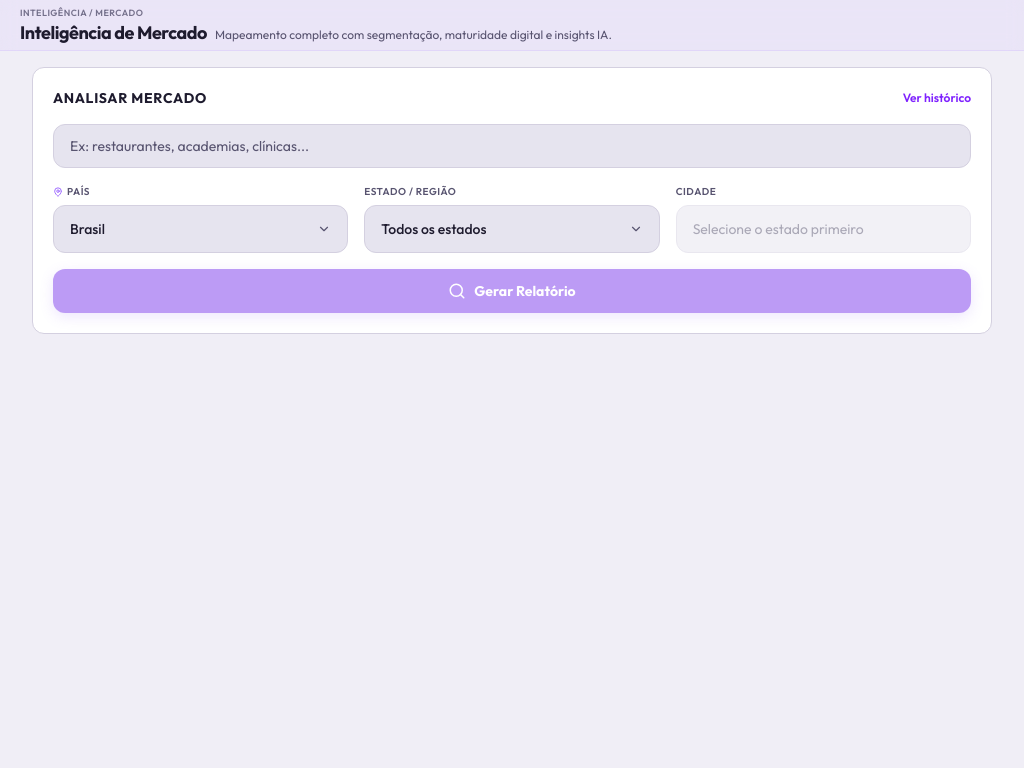
Test: Intelligence modules › MercadoPage › shows error banner when market report fails
The width and height of the screenshot is (1024, 768).
Type "restaurants" into the field with placeholder "Ex: restaurantes, academias, clínicas..." at (512, 146), box [53,124,971,168]
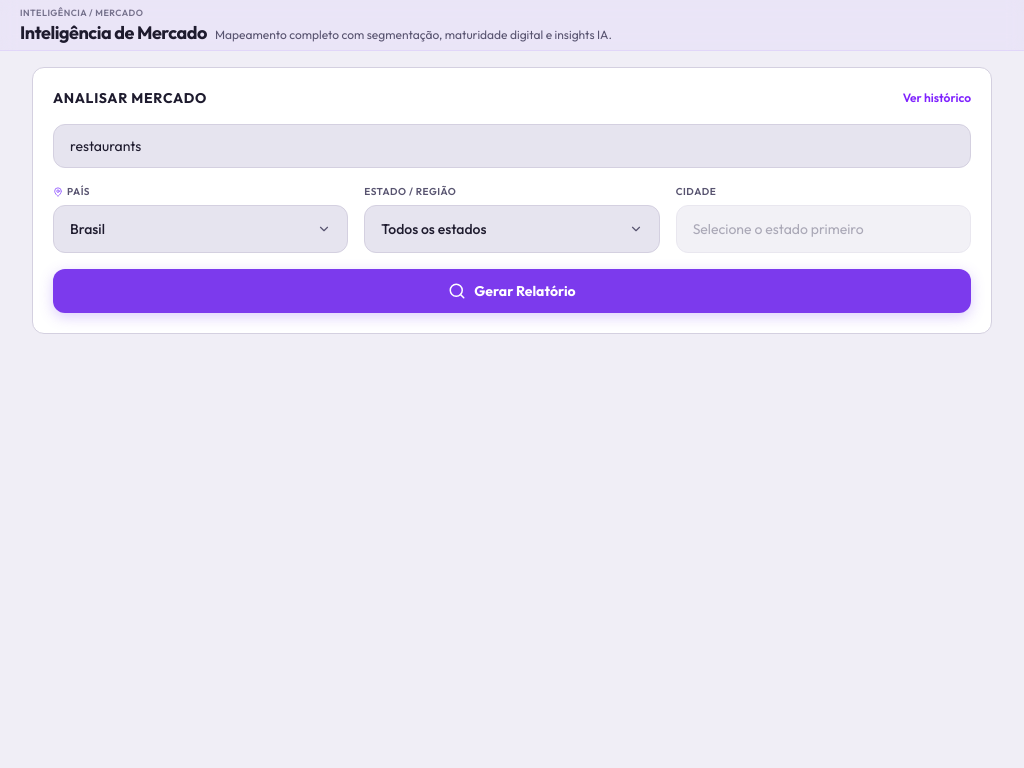
Click the button "Gerar Relatório" at (512, 291), box [53,269,971,313]
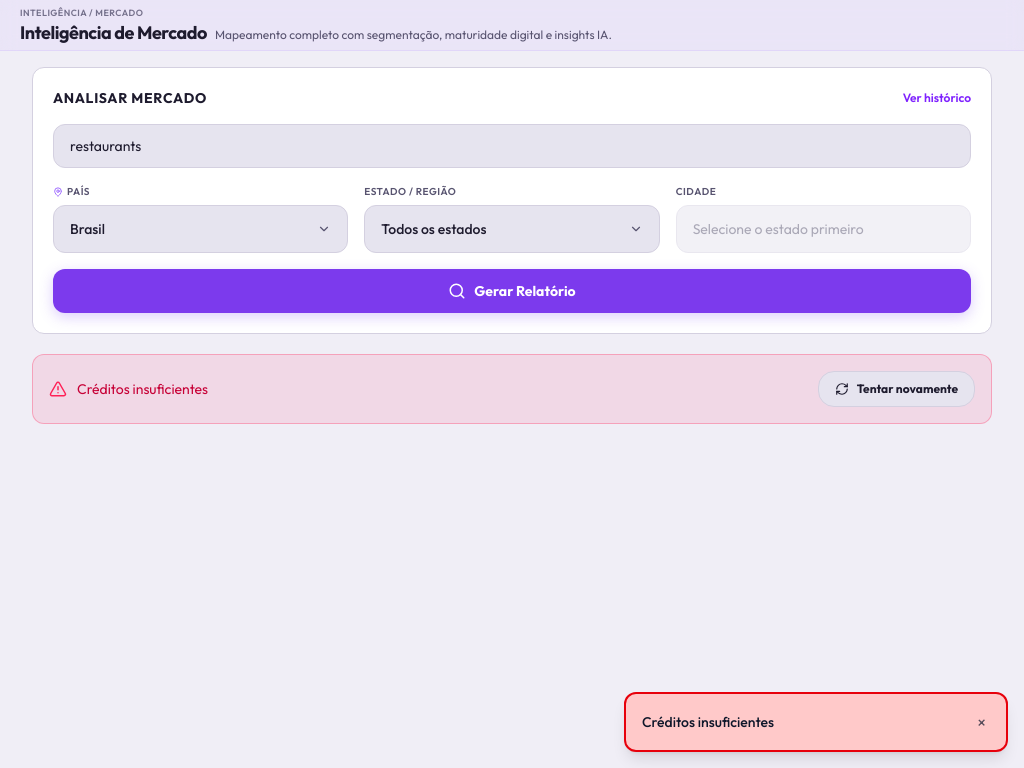
Now the text "Créditos insuficientes" below "País" is shown, box [77,380,208,398]
